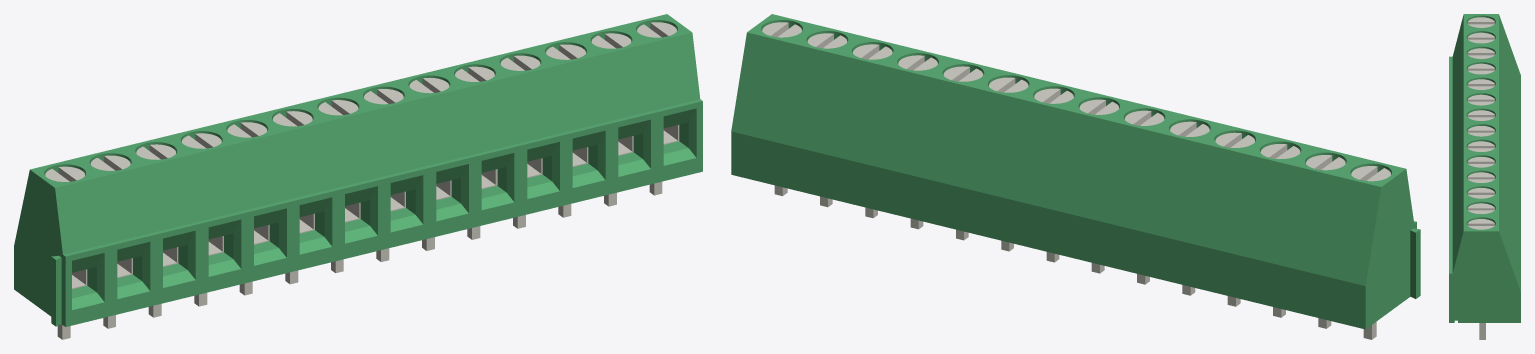
The model's file is kc-terminalblock_phoenix_mkds-1_5-14_1x14_p5.00mm_horizontal.glb.
The picture shows the model from 3 angles, left to right: view 1: azimuth 30°, elevation 25°; view 2: azimuth 150°, elevation 25°; view 3: azimuth 270°, elevation 25°; orthographic projection. The views are drawn at different scales.
Visible parts, largest first — view 1: 0.08333333333333333_0.4166666666666667_0.16666666666666666_0, 0.6666666666666666_0.6666666666666666_0.5833333333333334_0.8; view 2: 0.08333333333333333_0.4166666666666667_0.16666666666666666_0, 0.6666666666666666_0.6666666666666666_0.5833333333333334_0.8; view 3: 0.08333333333333333_0.4166666666666667_0.16666666666666666_0, 0.6666666666666666_0.6666666666666666_0.5833333333333334_0.8.
Boxes of the visible parts, x1,y1,x2,y2 form: 0.08333333333333333_0.4166666666666667_0.16666666666666666_0: [14, 14, 702, 326]; 0.6666666666666666_0.6666666666666666_0.5833333333333334_0.8: [45, 22, 679, 339]; 0.08333333333333333_0.4166666666666667_0.16666666666666666_0: [731, 14, 1420, 329]; 0.6666666666666666_0.6666666666666666_0.5833333333333334_0.8: [762, 22, 1390, 339]; 0.08333333333333333_0.4166666666666667_0.16666666666666666_0: [1449, 14, 1520, 322]; 0.6666666666666666_0.6666666666666666_0.5833333333333334_0.8: [1467, 17, 1494, 339].
Size of the model in its own units: 7.07 by 1.73 by 0.9801.
